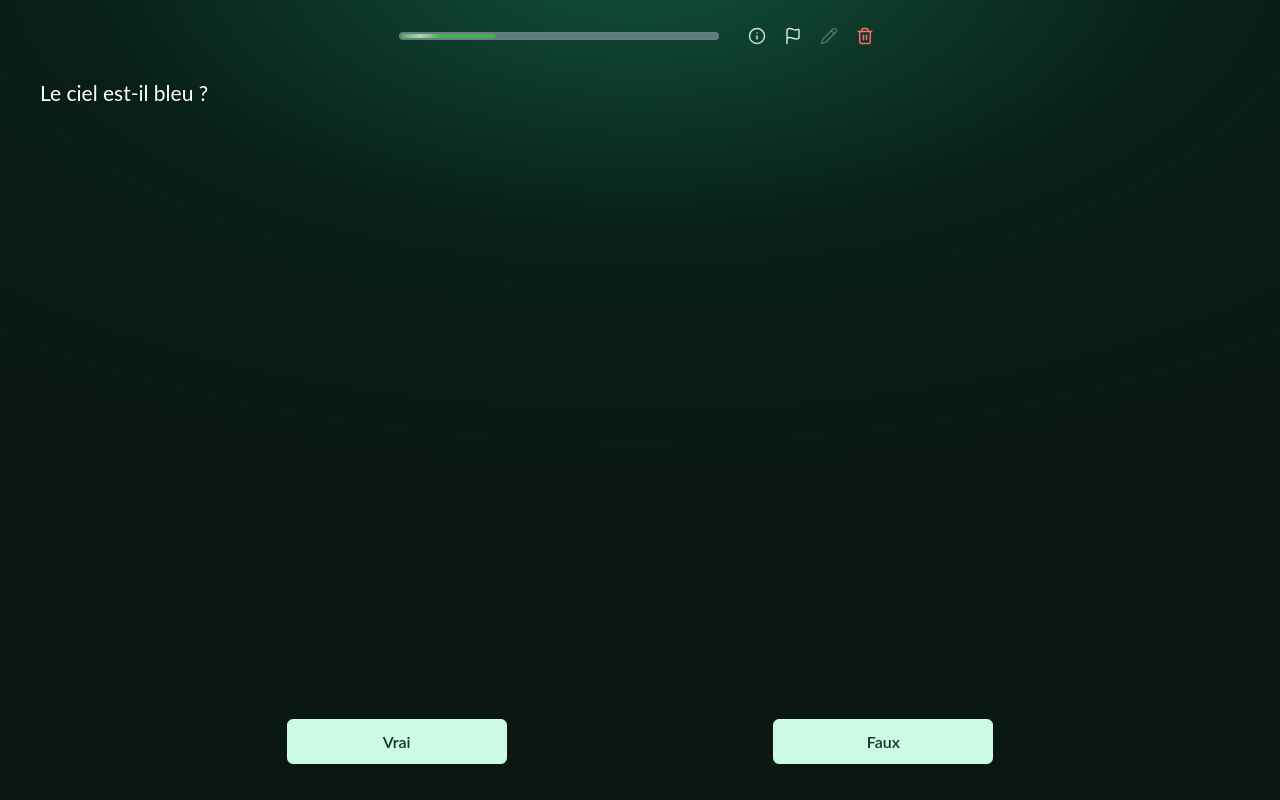
Session › affiche le dialog de confirmation quand on clique sur Supprimer, Annuler ne supprime pas
This screenshot has width=1280, height=800.
Check: the text "Supprimer la question ?" is not shown
Click the button titled "Supprimer" at (865, 36), box [849,20,881,52]
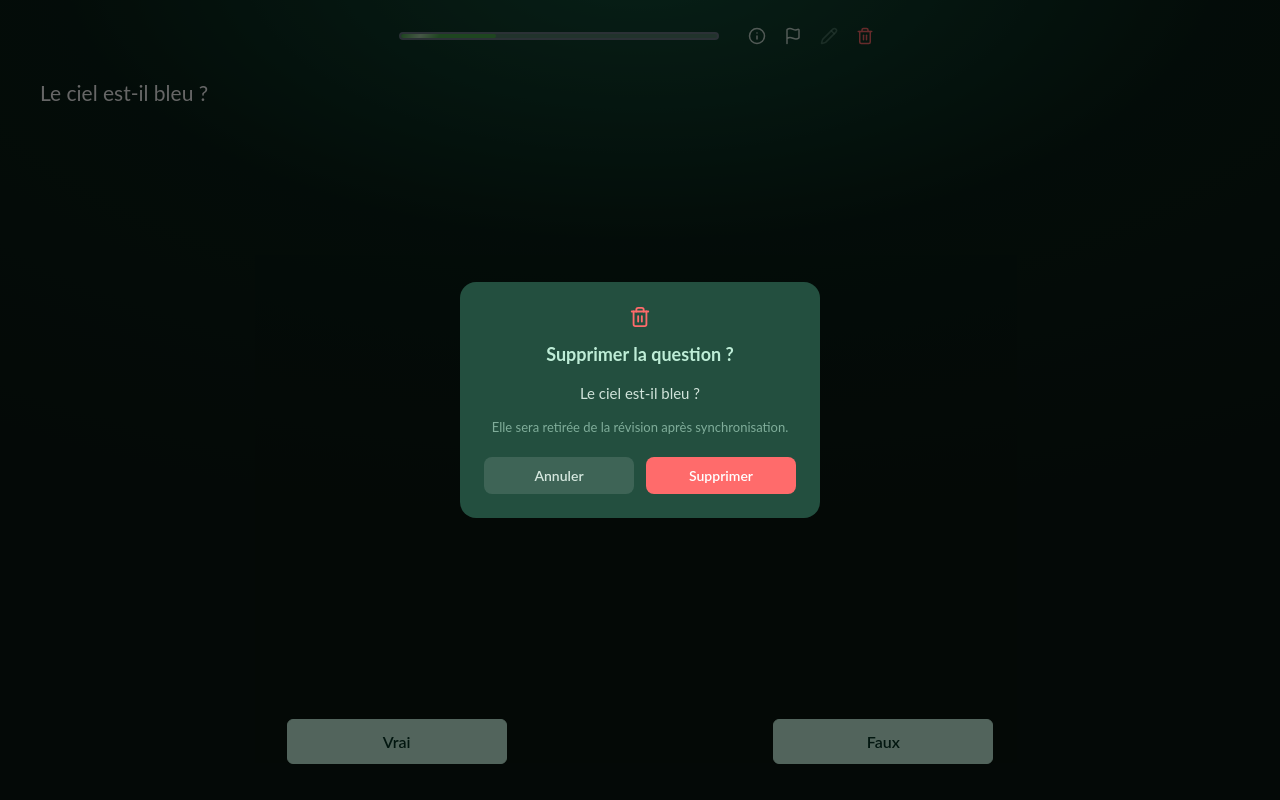
Check: the heading "Supprimer la question ?" is shown, box [546,340,734,368]
Check: the text "Elle sera retirée de la révision après synchronisation." is shown, box [492,416,788,437]
# Annuler : ferme le dialog, ne supprime pas.
Click the button "Annuler" at (559, 476), box [484,457,634,494]
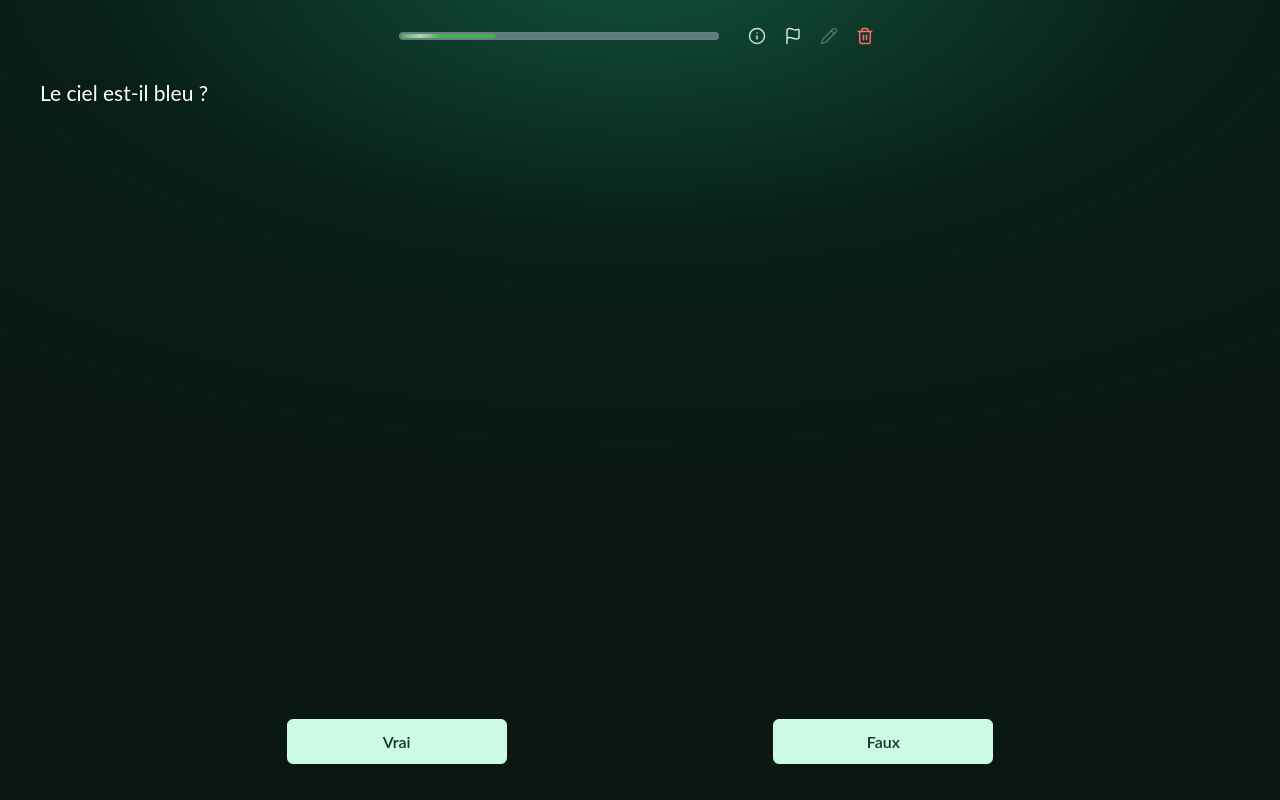
Check: the heading "Supprimer la question ?" is gone
